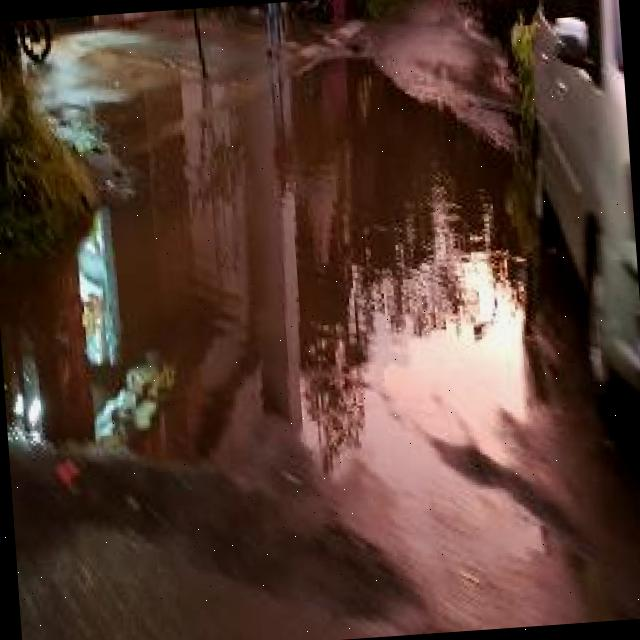waterlogging: (0, 27, 528, 472)
